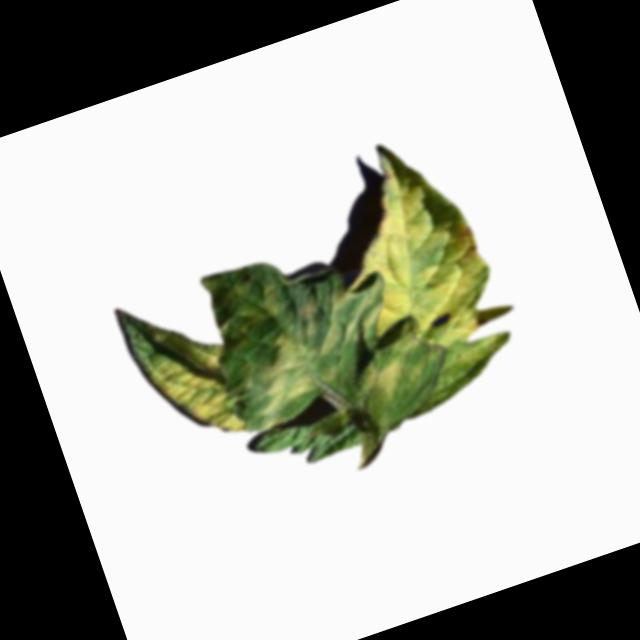Leaf_Mold: (311, 130, 522, 401), (133, 303, 255, 456), (236, 321, 343, 431), (198, 253, 290, 351), (308, 276, 398, 360), (354, 354, 406, 406)
